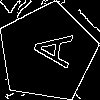A: (22, 28, 73, 69)
